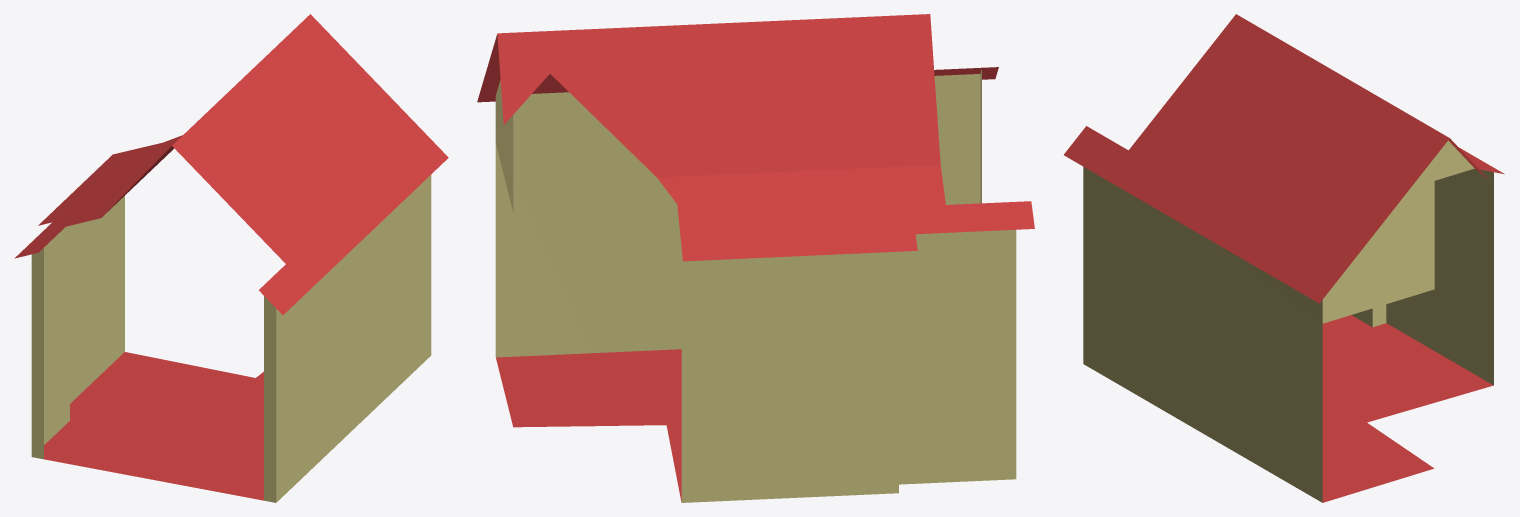
3 views of the same model, side by side, from view 1: azimuth 30°, elevation 25°; view 2: azimuth 150°, elevation 25°; view 3: azimuth 270°, elevation 25° (orthographic). The views are drawn at different scales.
Bounding box in the file's own units: 18.86 × 15.55 × 12.93.
